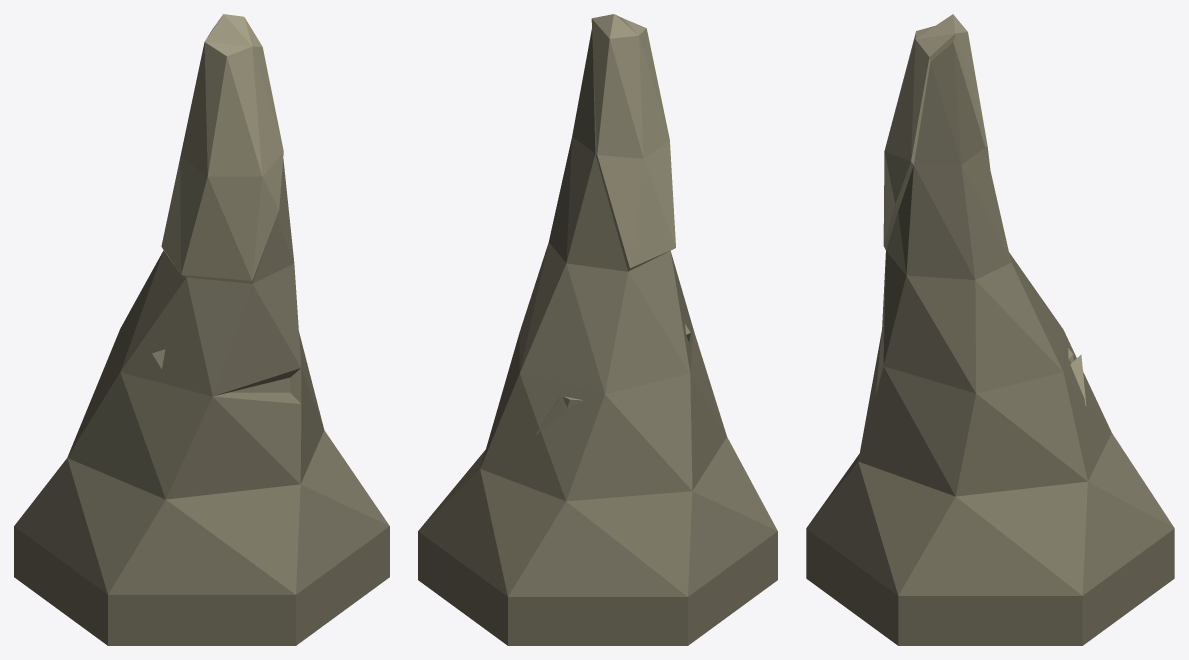
Rendered from StalackshitBig.fbx.
3 views of the same model, side by side, from view 1: azimuth 30°, elevation 25°; view 2: azimuth 150°, elevation 25°; view 3: azimuth 270°, elevation 25° (orthographic). The views are drawn at different scales.
Parts seen in each view (by area): view 1: stalackshit; view 2: stalackshit; view 3: stalackshit.
Part boxes in pixels (<box>): stalackshit: <box>14,14,389,645</box>; stalackshit: <box>418,14,777,645</box>; stalackshit: <box>806,14,1174,645</box>.
Size of the model in its own units: 1.73 by 2 by 3.39.
